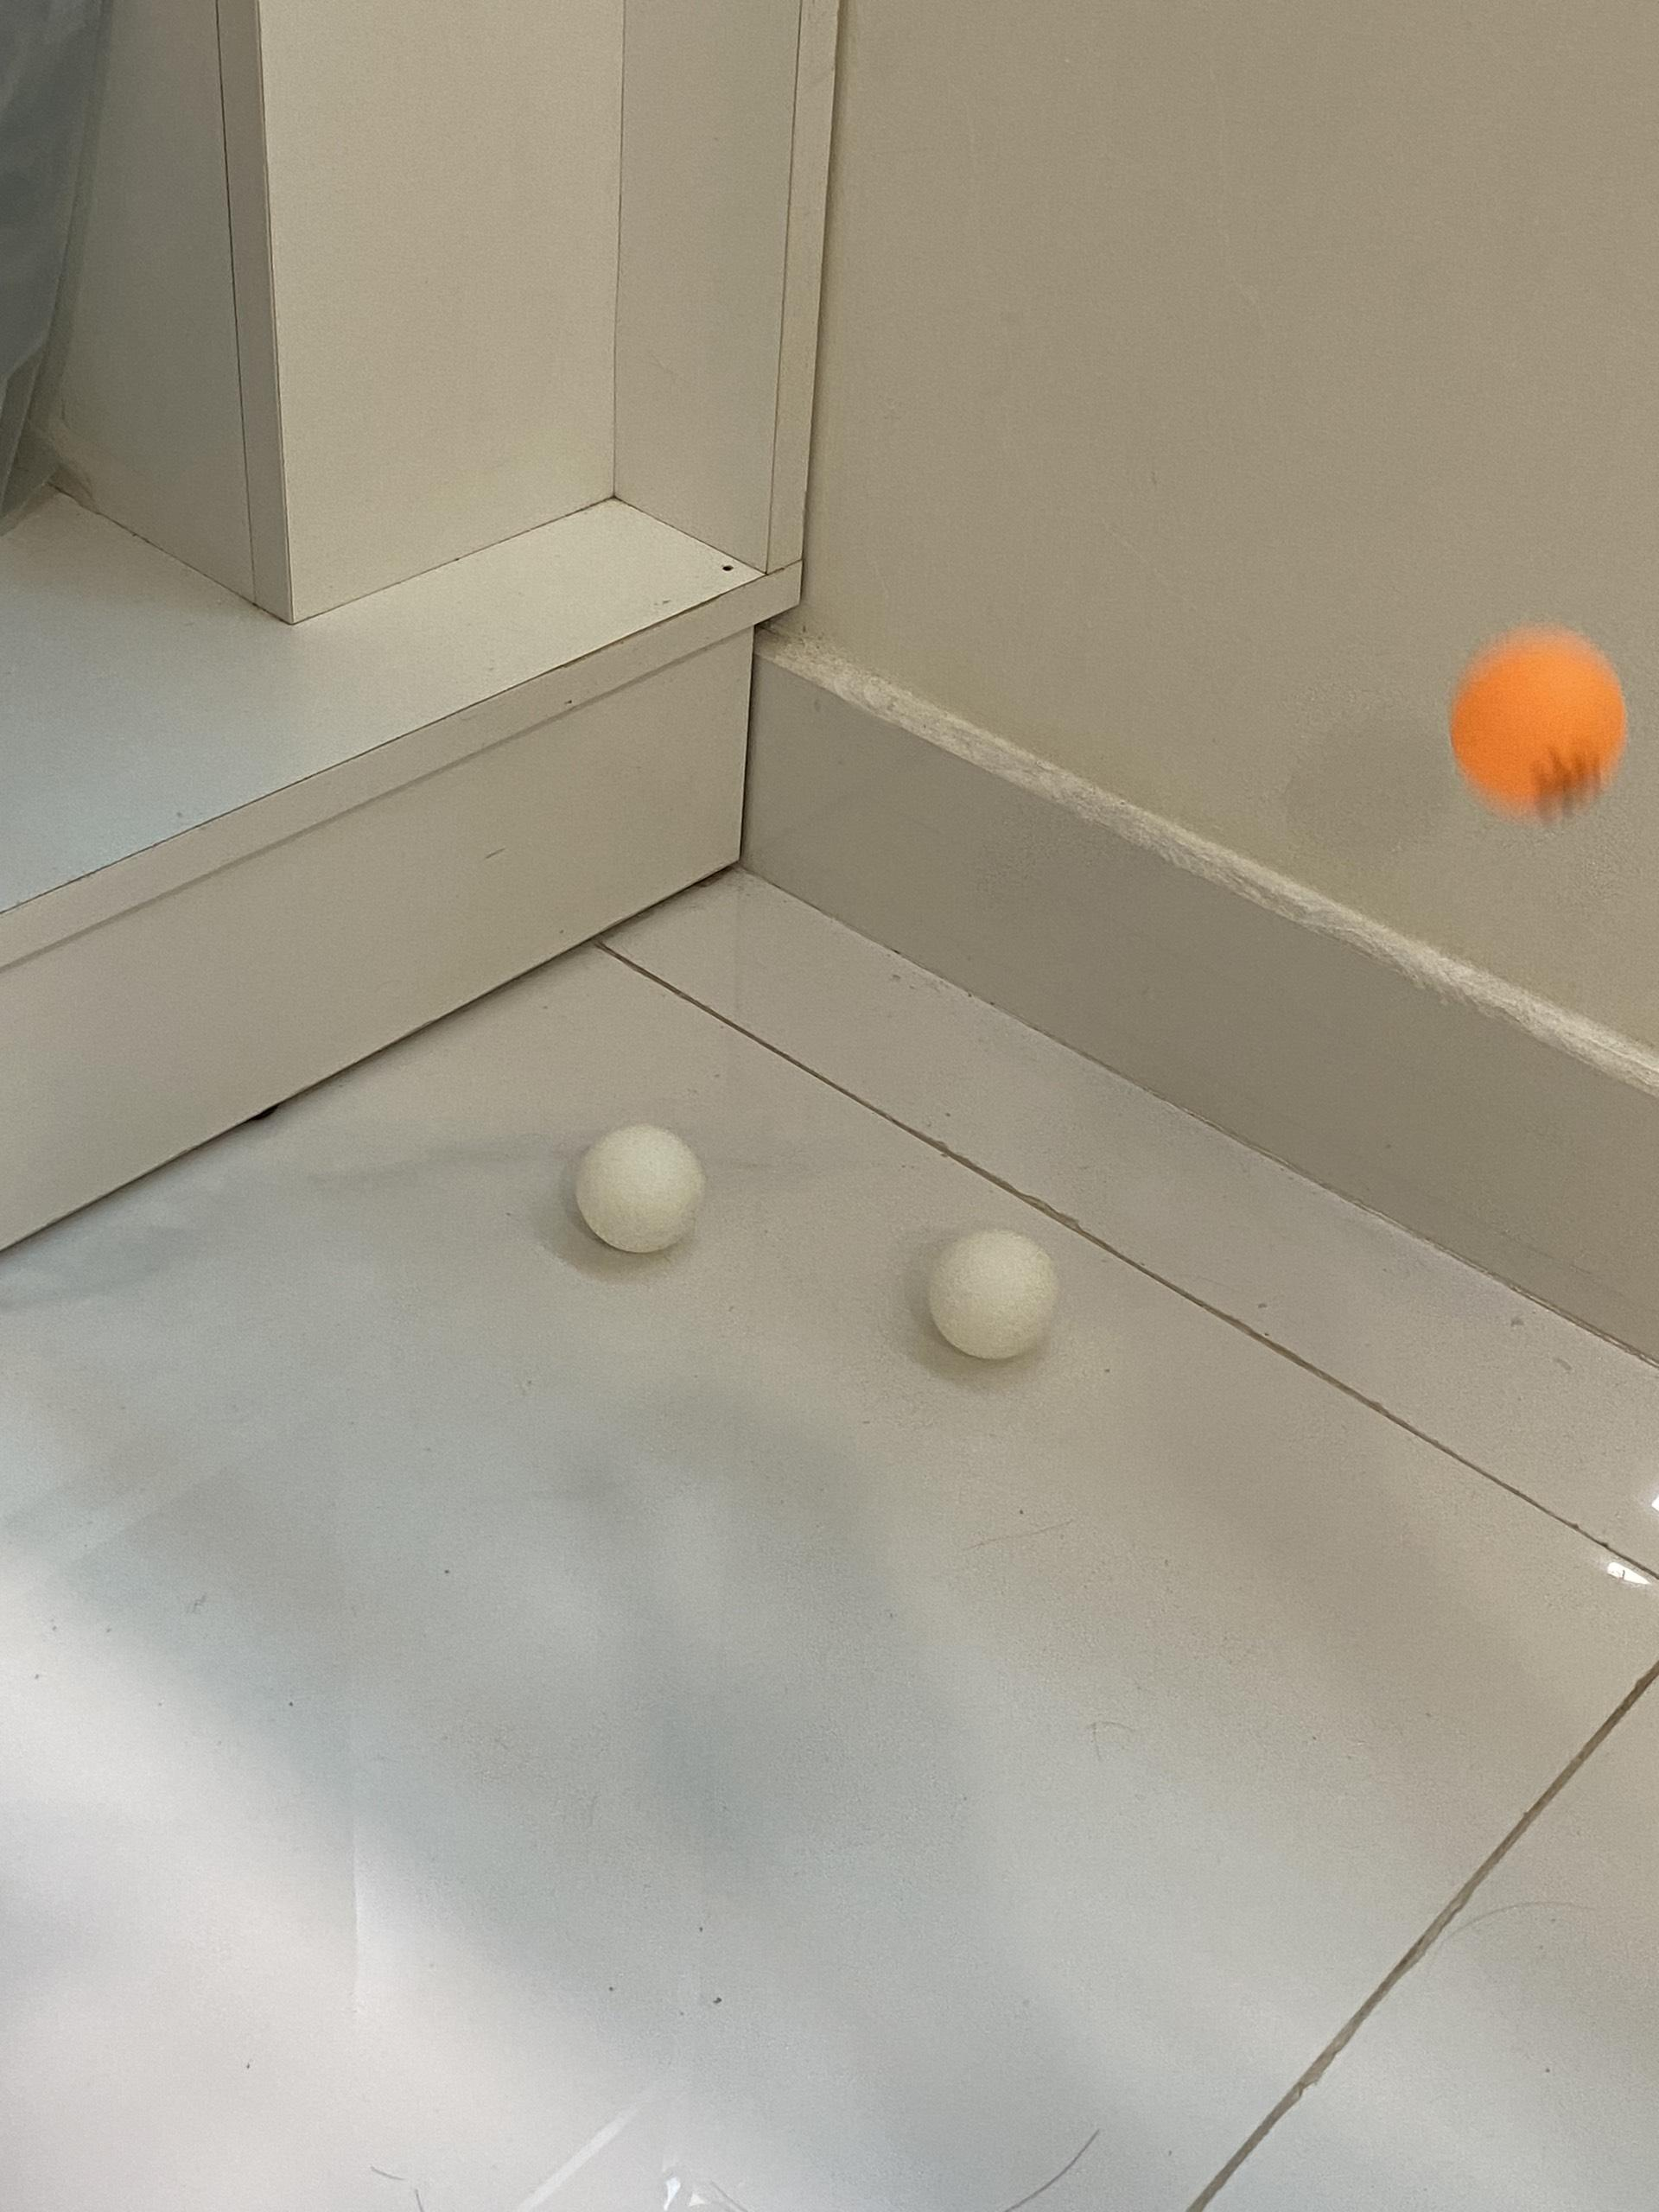oball: (1455, 639, 1624, 812)
